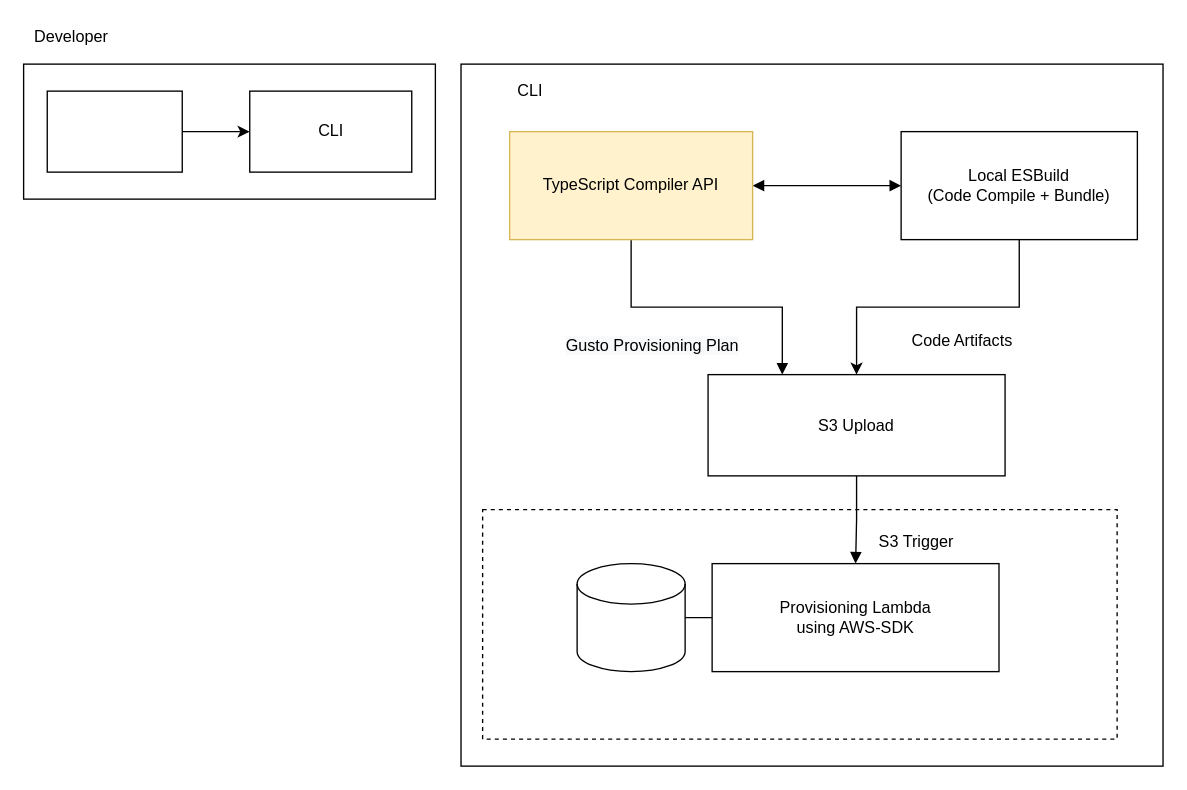
Some shapes in this 1187 by 790 pixel diagram are drawn without their labels. Here are the shapes that lost their labels. From the top down, the centre of each, then its label:
At [114,131]: "Source Code".
At [630,617]: "Inventory".
